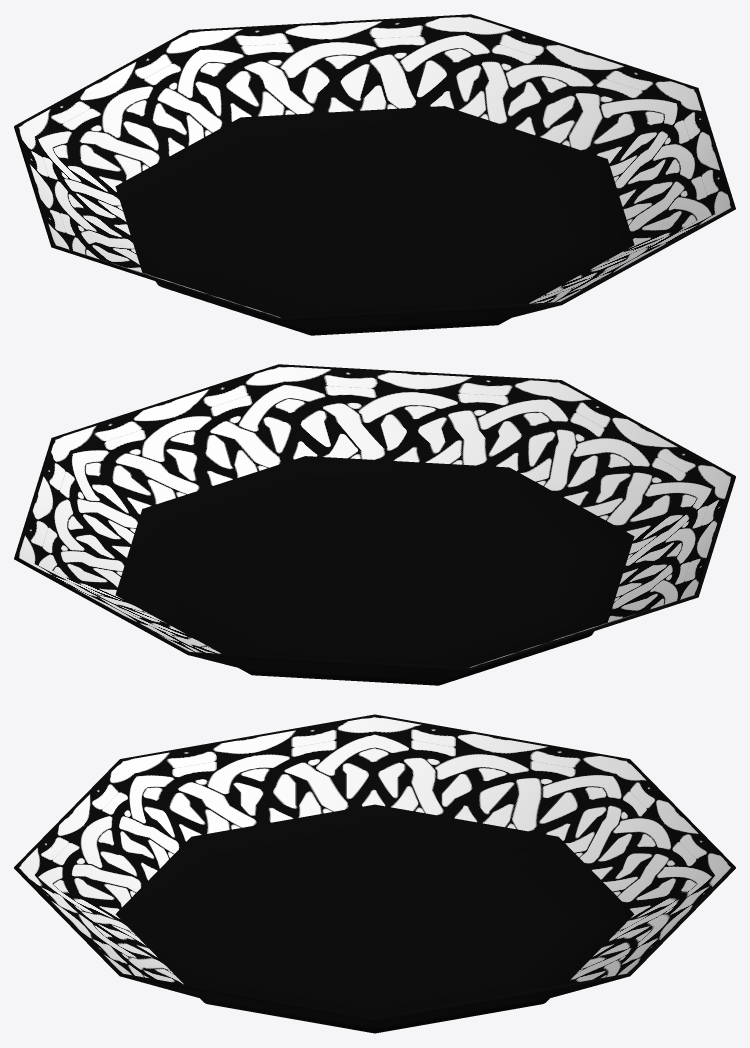
The model's file is plate.glb.
3 renders of one model, top to bottom at view 1: azimuth 30°, elevation 25°; view 2: azimuth 150°, elevation 25°; view 3: azimuth 270°, elevation 25°, orthographic. The views are drawn at different scales.
Parts seen in each view (by area): view 1: framedflatplate; view 2: framedflatplate; view 3: framedflatplate.
Part boxes in pixels (x1,y1,x2,y2): framedflatplate: (14, 14, 735, 335); framedflatplate: (14, 364, 735, 685); framedflatplate: (14, 714, 735, 1033).
Size of the model in its own units: 28.83 by 2.99 by 28.83.
Materials: 1 (1 with a texture image).
